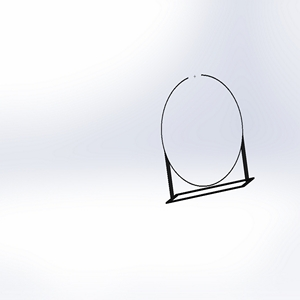circle: (159, 70, 254, 203)
